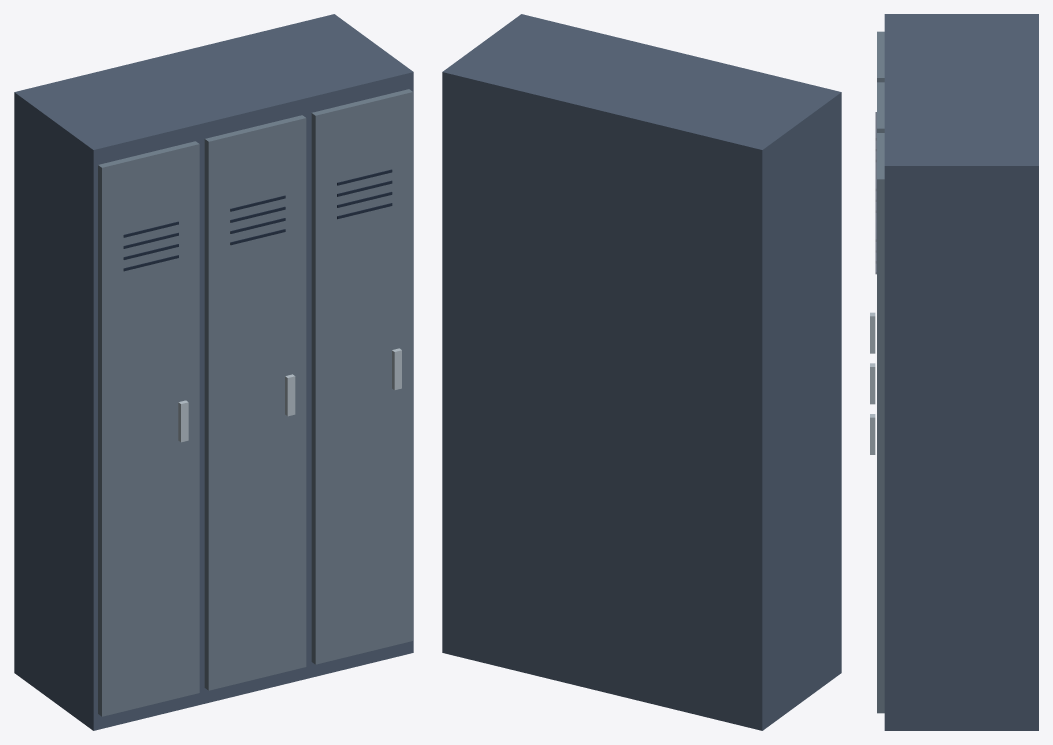
Rendered from officeLockers.glb.
3 views of the same model, side by side, from view 1: azimuth 30°, elevation 25°; view 2: azimuth 150°, elevation 25°; view 3: azimuth 270°, elevation 25° (orthographic). The views are drawn at different scales.
Bounding box in the file's own units: 1.05 × 1.82 × 0.4925.
